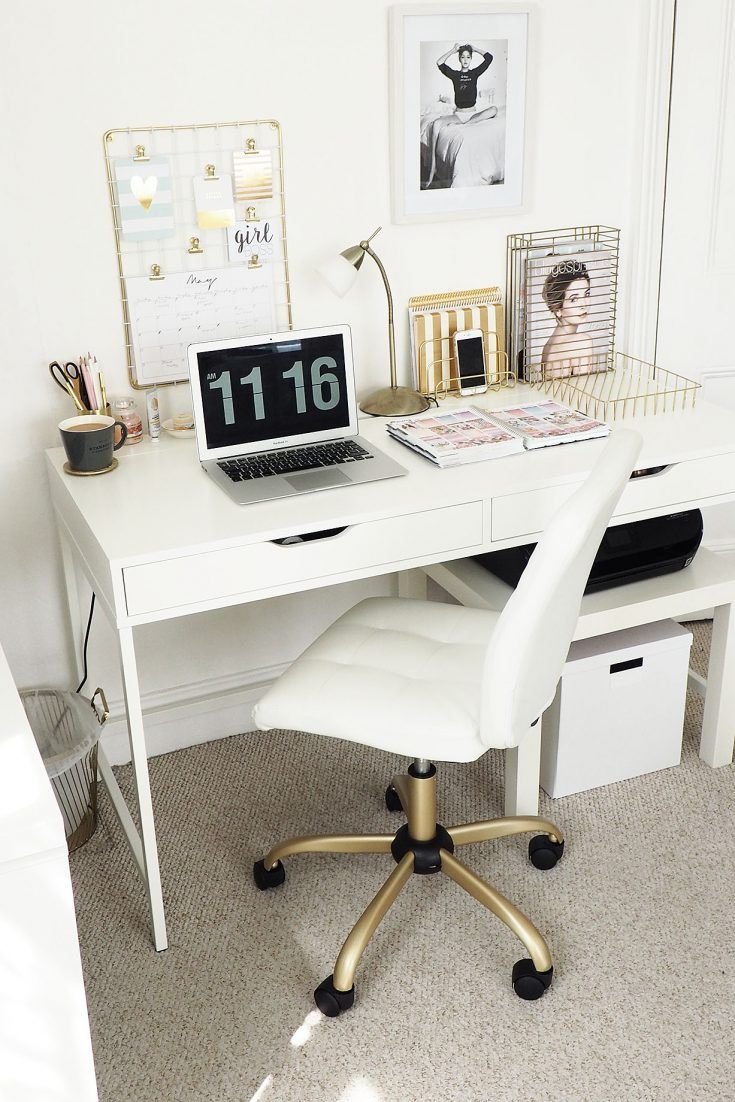chairs: (247, 421, 648, 1022)
